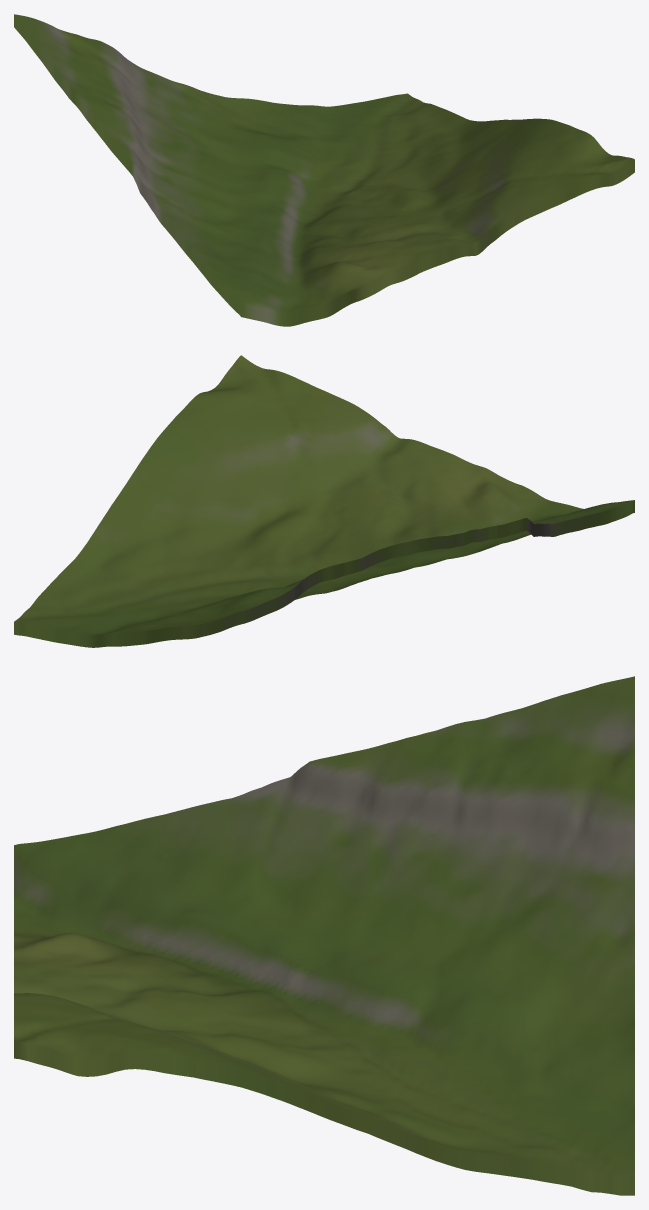
File: terrain_4_-5.glb
3 renders of one model, top to bottom at view 1: azimuth 30°, elevation 25°; view 2: azimuth 150°, elevation 25°; view 3: azimuth 270°, elevation 25°, orthographic. The views are drawn at different scales.
Parts seen in each view (by area): view 1: terrain_4_-5; view 2: terrain_4_-5; view 3: terrain_4_-5.
Boxes of the visible parts, x1=… form: terrain_4_-5: x1=14, y1=14, x2=634, y2=326; terrain_4_-5: x1=14, y1=355, x2=634, y2=647; terrain_4_-5: x1=14, y1=676, x2=634, y2=1195.
Bounding box in the file's own units: 256 × 117 × 256.
